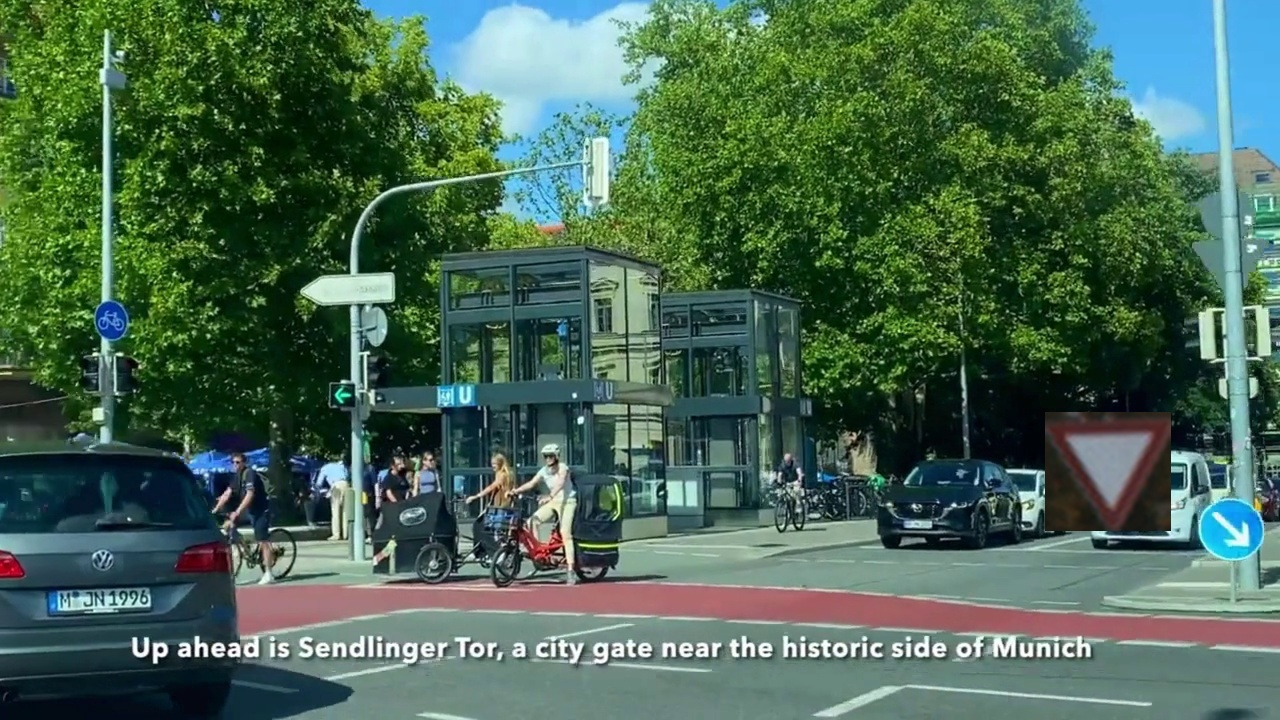Yield: (1045, 412, 1171, 531)
